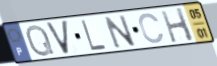C: (138, 12, 166, 45)
H: (159, 6, 196, 44)
L: (80, 18, 109, 52)
N: (102, 13, 139, 51)
Q: (25, 23, 57, 58)
V: (43, 18, 71, 56)
